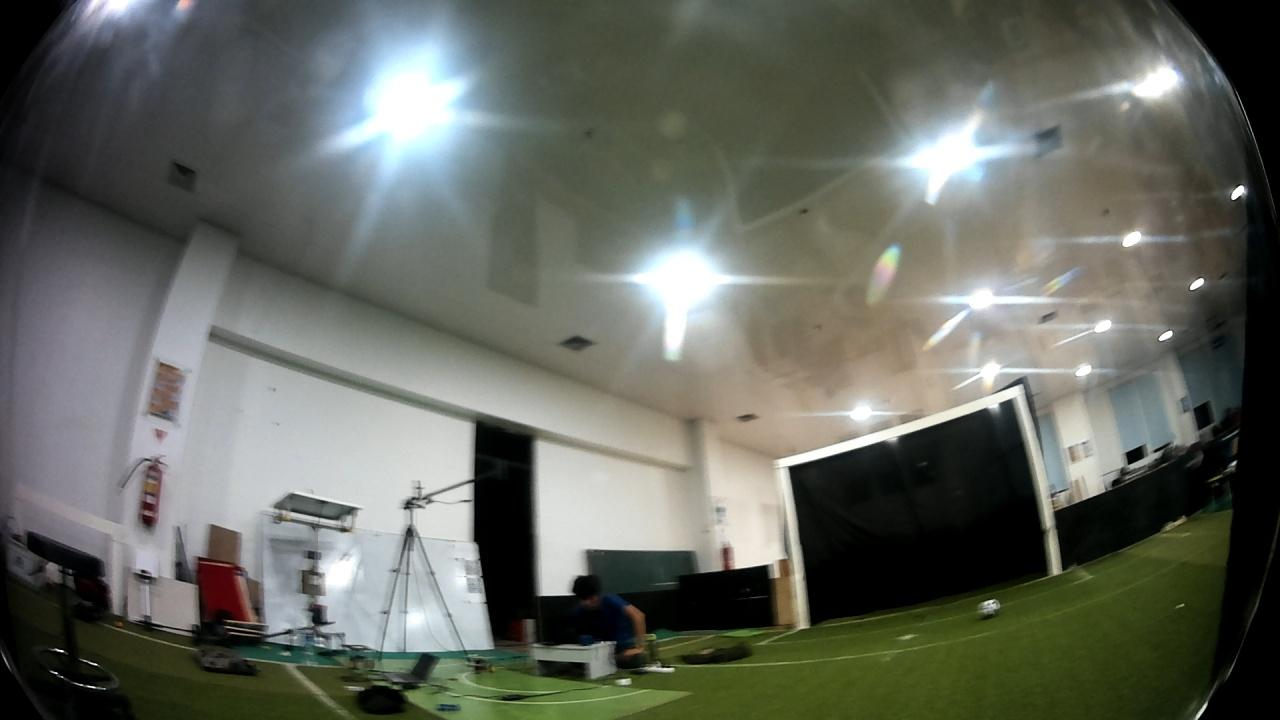ball: (976, 595, 1002, 618)
